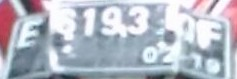plate: (8, 4, 232, 79)
